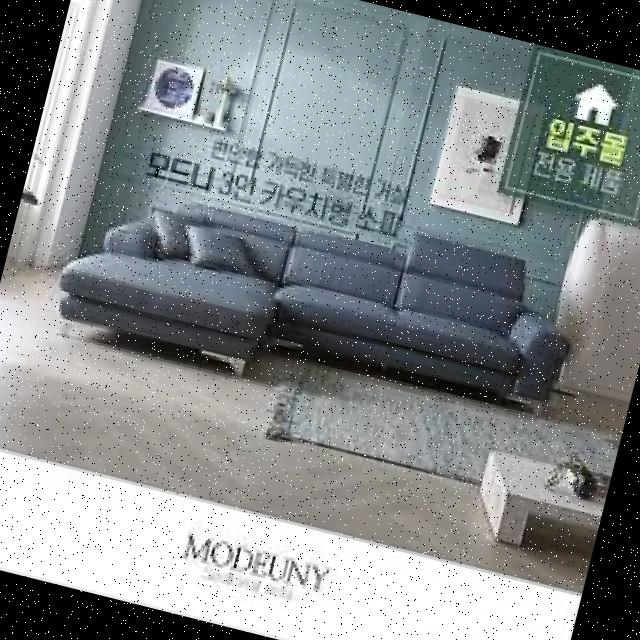Sofa: (19, 124, 618, 496)
